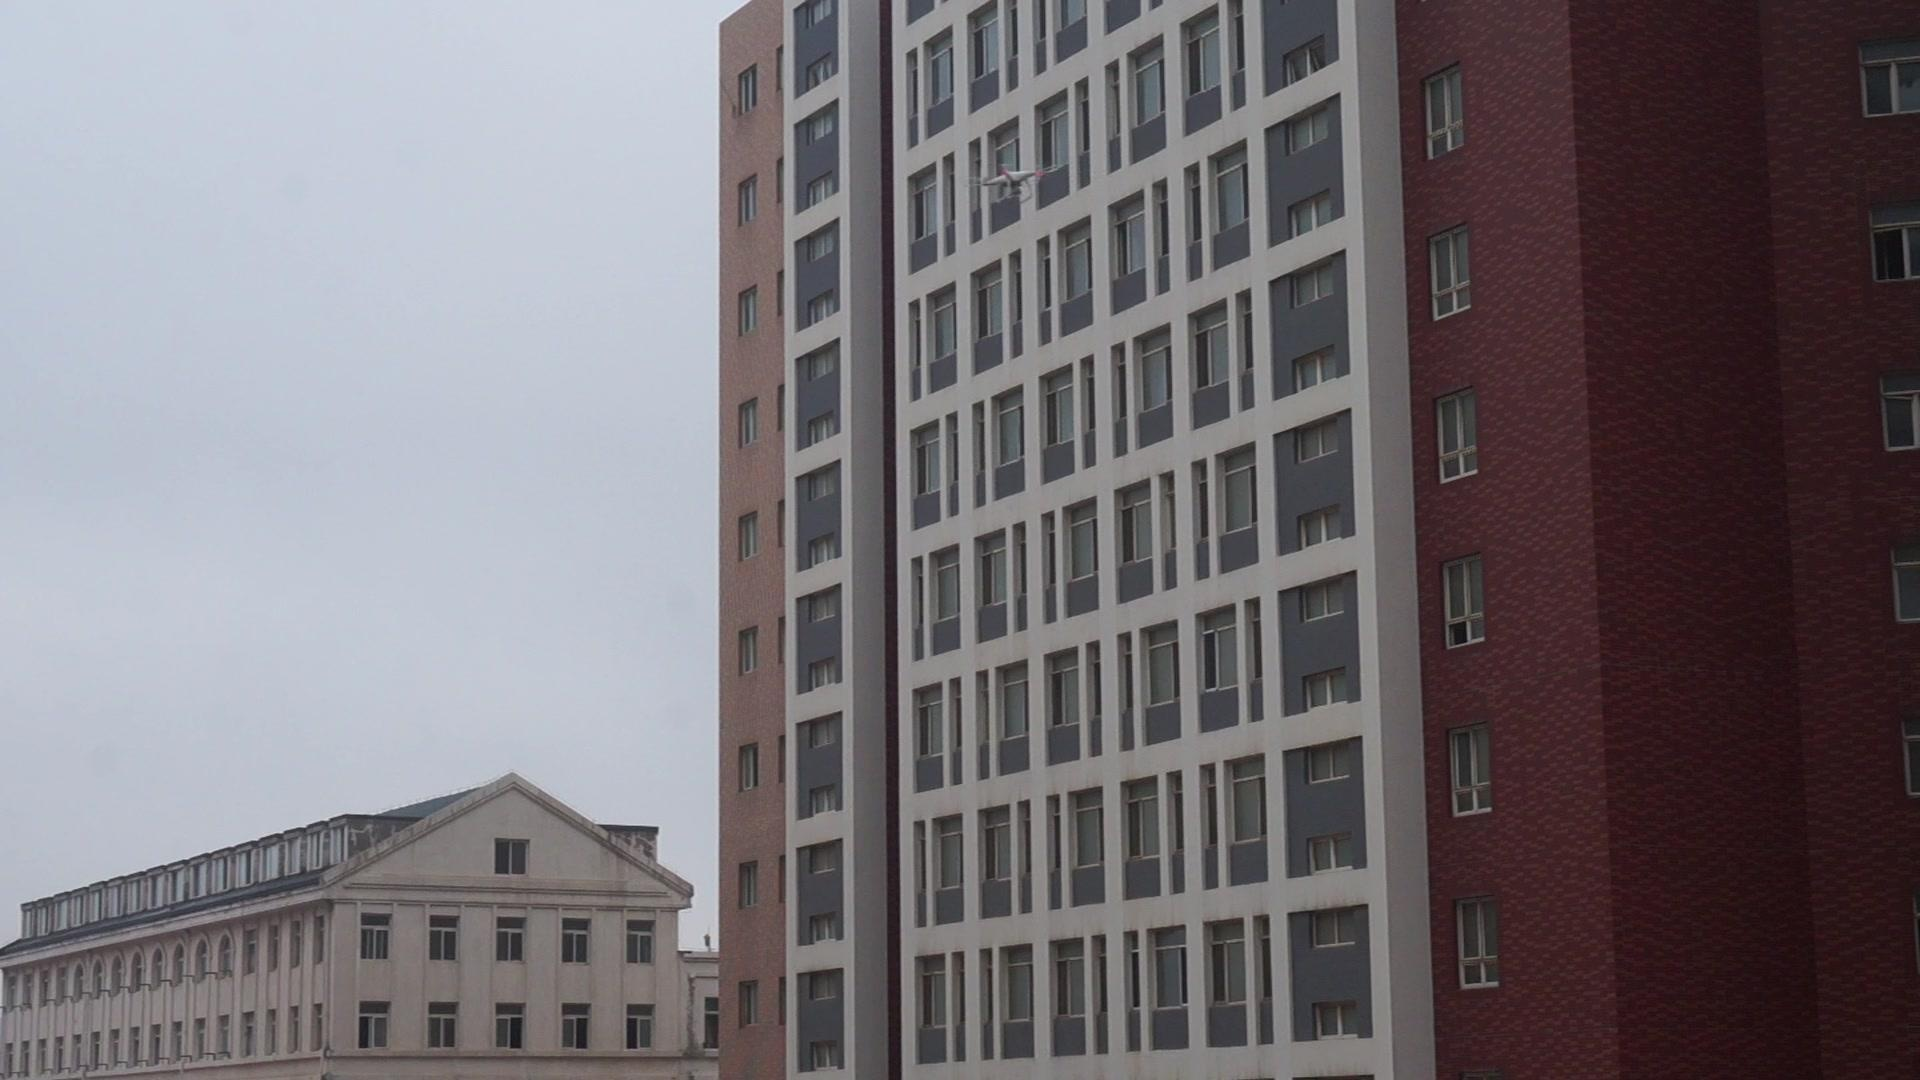UAV: (965, 166, 1062, 204)
